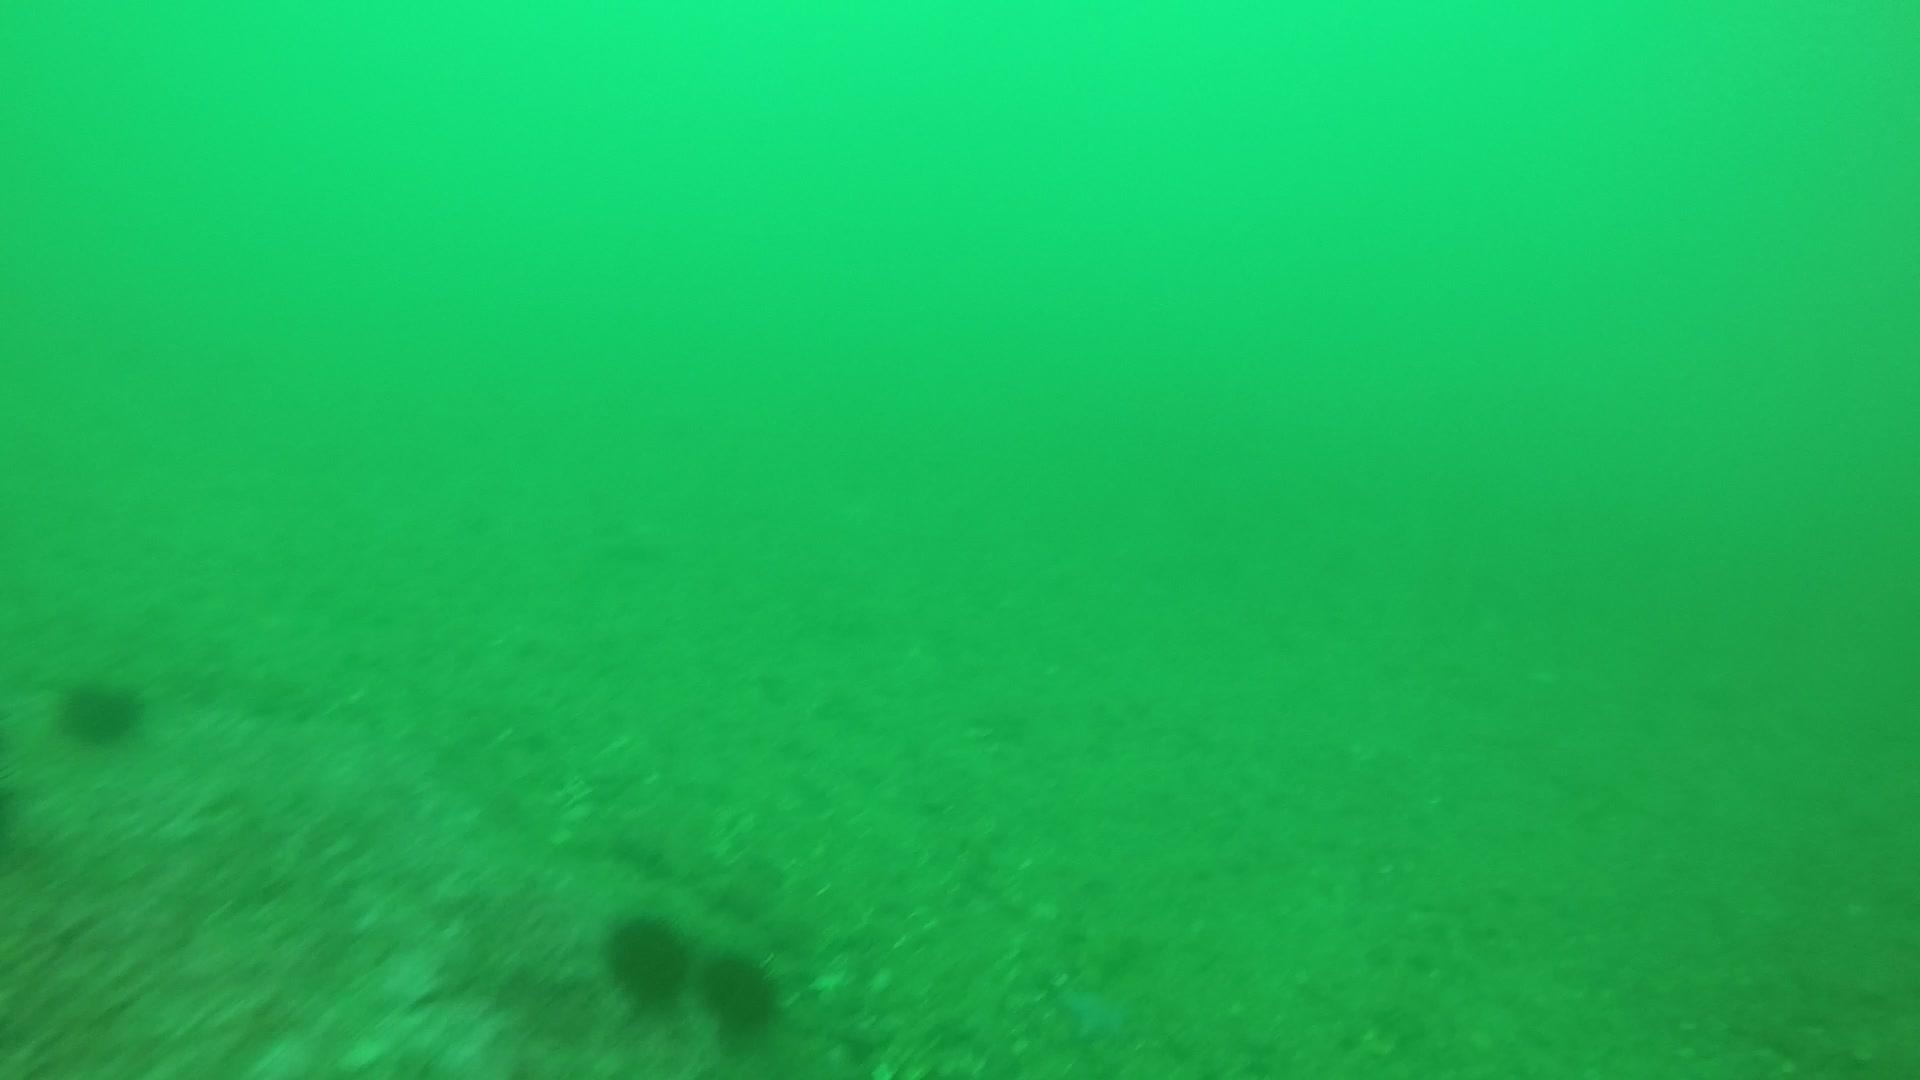echinus: (597, 907, 696, 1009), (698, 945, 787, 1040), (53, 670, 146, 749)
starfish: (1048, 969, 1139, 1047)
